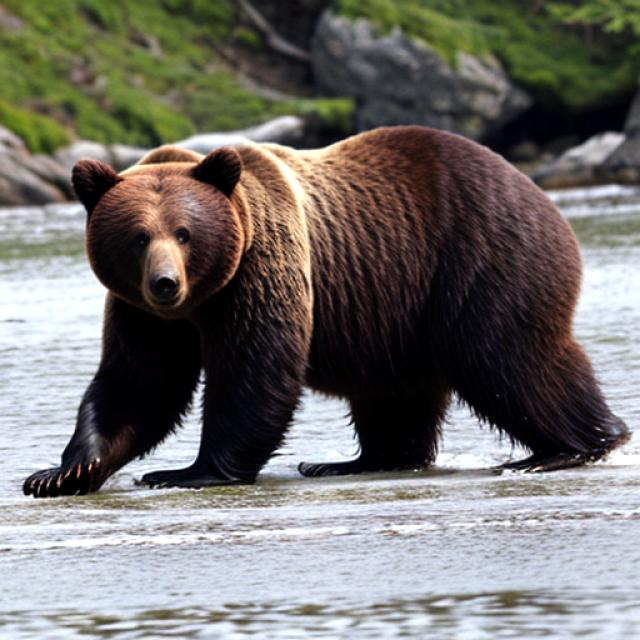bear: (69, 132, 276, 323)
